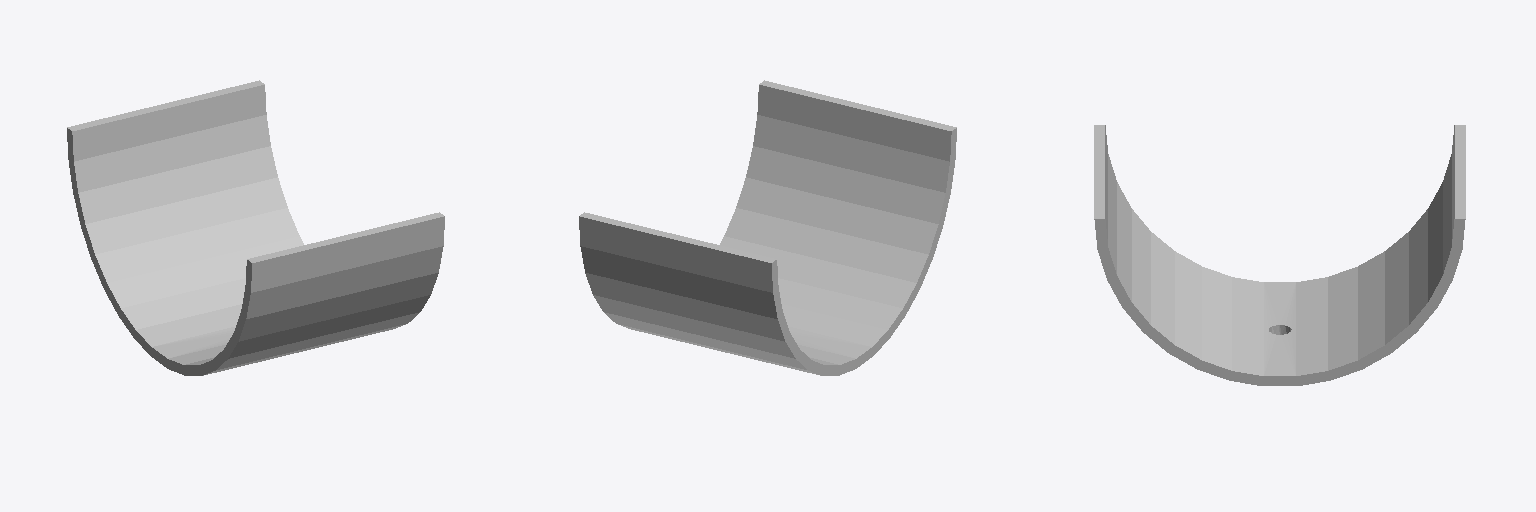
File: Вкладыш головки шатуна.obj
3 views of the same model, side by side, from view 1: azimuth 30°, elevation 25°; view 2: azimuth 150°, elevation 25°; view 3: azimuth 270°, elevation 25° (orthographic).
Visible parts, largest first — view 1: Вкладыш_головки_шатуна; view 2: Вкладыш_головки_шатуна; view 3: Вкладыш_головки_шатуна.
Boxes of the visible parts, x1,y1,x2,y2 form: Вкладыш_головки_шатуна: [67, 80, 444, 375]; Вкладыш_головки_шатуна: [579, 80, 956, 375]; Вкладыш_головки_шатуна: [1094, 125, 1465, 385].
Bounding box in the file's own units: 28.57 × 23.82 × 47.65.